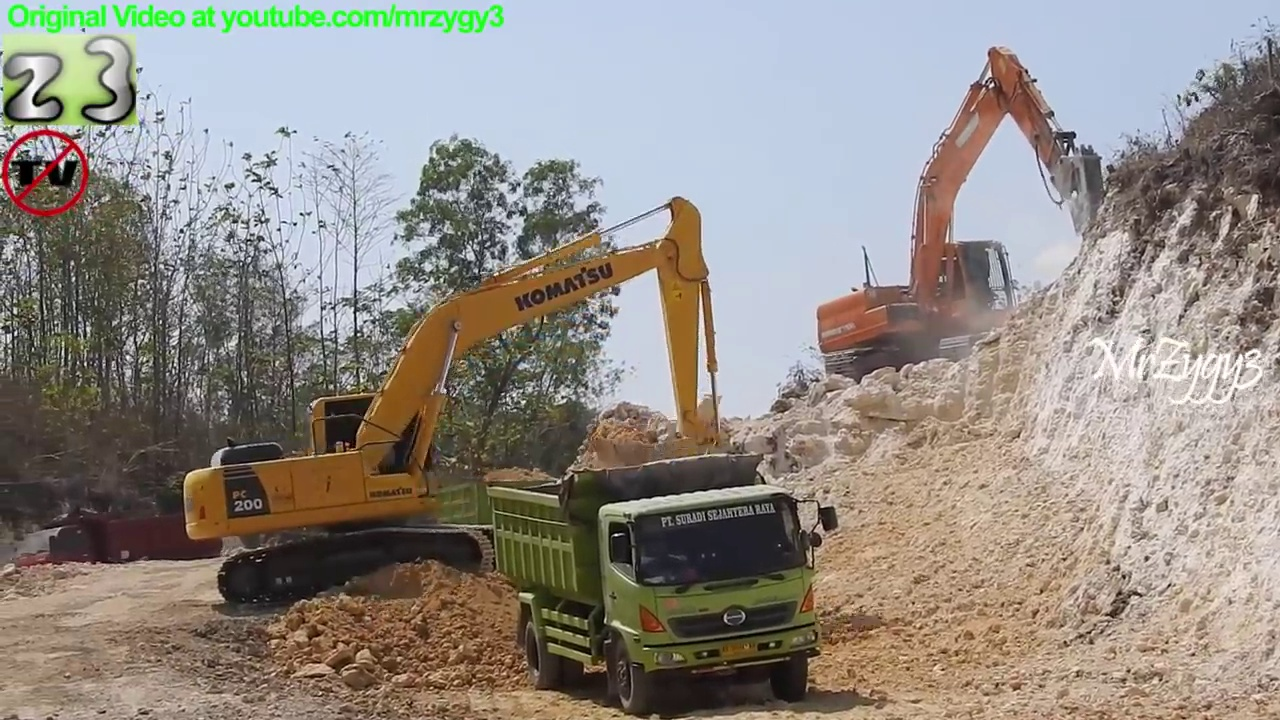excavator: (177, 193, 750, 613), (813, 40, 1119, 405)
truck: (485, 448, 844, 720), (419, 462, 651, 564)
